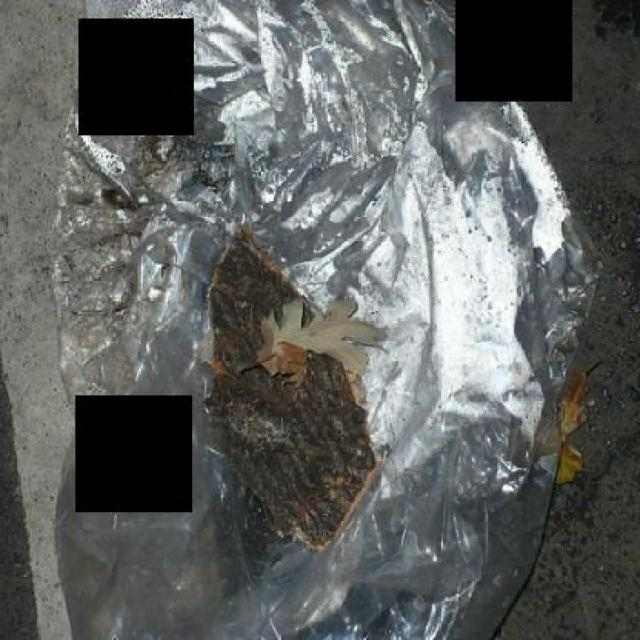plastic bag: (52, 0, 601, 638)
